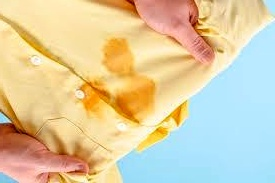mustard: (113, 78, 157, 119), (103, 38, 132, 81), (83, 83, 109, 116)
